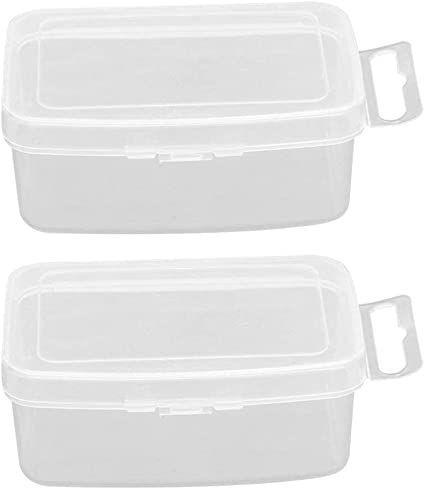PP: (0, 256, 423, 488), (1, 5, 421, 234)
